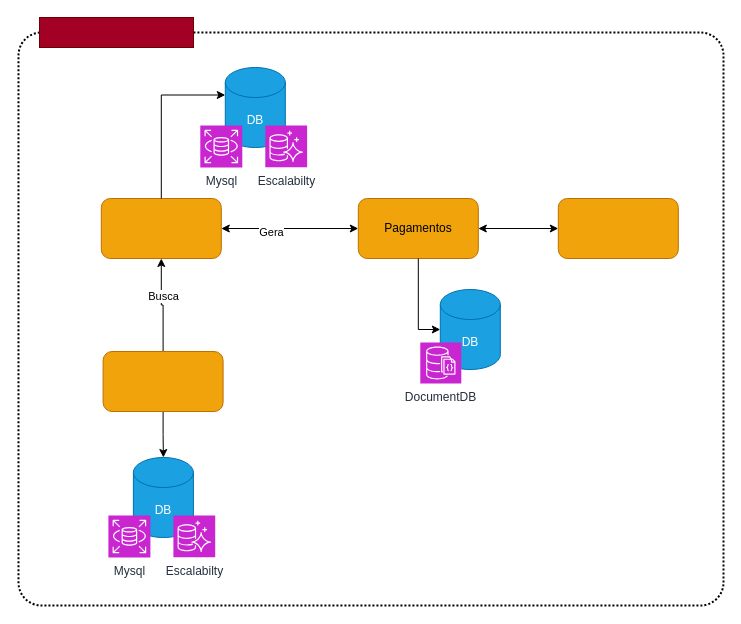
The diagram is 741 pixels wide and 624 high, and some of its shapes have lost their labels. The centre of each missing label's shape, as x and y in pixels:
Componentes da aplicação: the point at 116,32
Entrega: the point at 162,381
Mercado Pago: the point at 617,228
Pedidos: the point at 160,228
